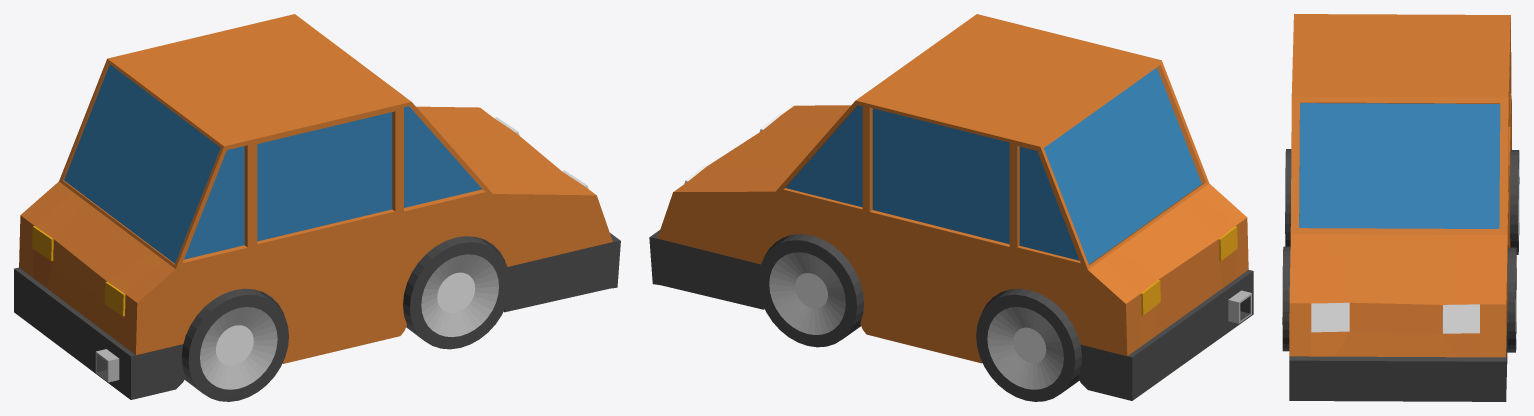
File: car_orange.fbx
3 views of the same model, side by side, from view 1: azimuth 30°, elevation 25°; view 2: azimuth 150°, elevation 25°; view 3: azimuth 270°, elevation 25° (orthographic). The views are drawn at different scales.
Parts seen in each view (by area): view 1: Cube.006, Cylinder.020, Cylinder.019; view 2: Cube.006, Cylinder.018, Cylinder.021; view 3: Cube.006, Cylinder.018, Cylinder.021, Cylinder.020, Cylinder.019.
Boxes of the visible parts, left/top/right/bottom form: Cube.006: left=14, top=14, right=620, bottom=399; Cylinder.020: left=403, top=236, right=510, bottom=349; Cylinder.019: left=181, top=288, right=288, bottom=401; Cube.006: left=649, top=14, right=1253, bottom=400; Cylinder.018: left=758, top=234, right=863, bottom=347; Cylinder.021: left=976, top=288, right=1081, bottom=401; Cube.006: left=1289, top=14, right=1511, bottom=401; Cylinder.018: left=1507, top=247, right=1516, bottom=352; Cylinder.021: left=1510, top=150, right=1519, bottom=254; Cylinder.020: left=1282, top=246, right=1290, bottom=351; Cylinder.019: left=1285, top=149, right=1291, bottom=246.
Bounding box in the file's own units: 207 × 100 × 93.27.
